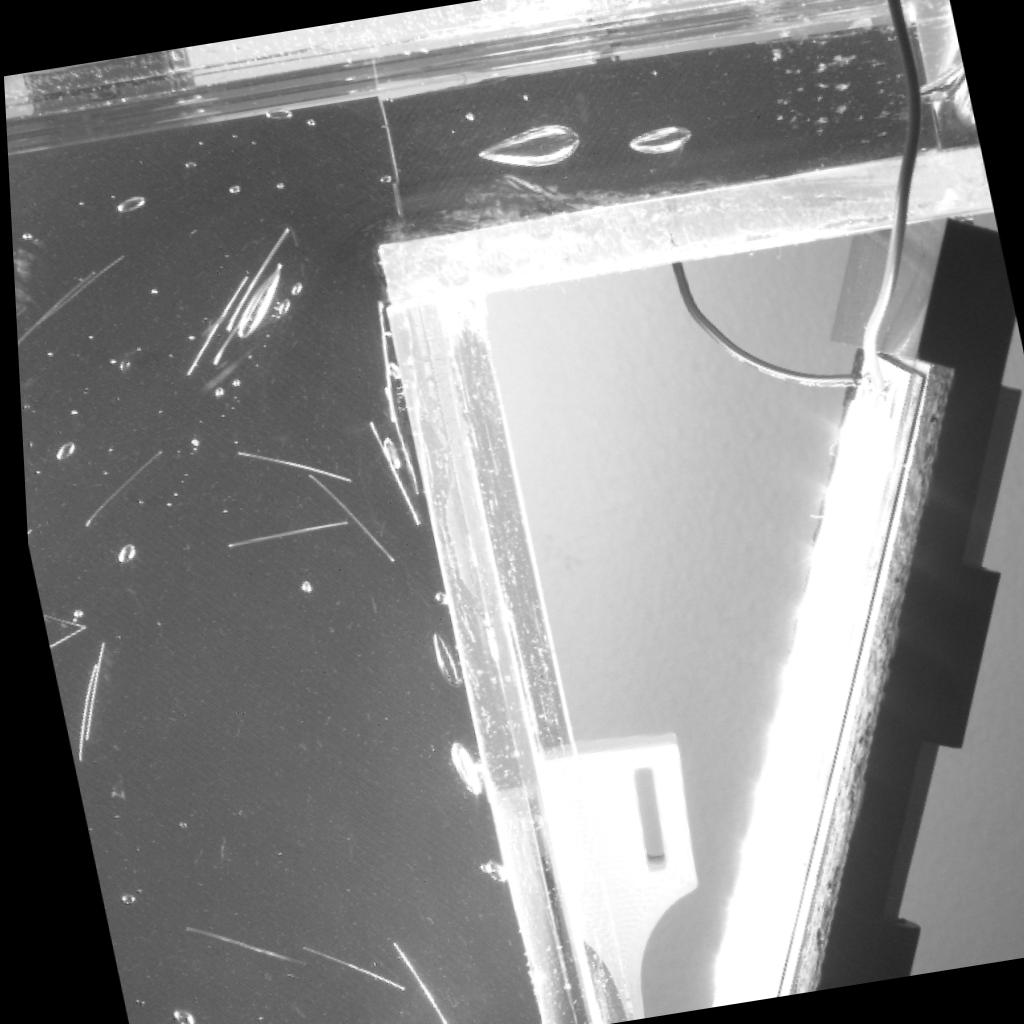Fiber: (203, 260, 285, 370), (298, 469, 390, 564), (216, 224, 287, 332), (72, 447, 161, 531), (176, 272, 246, 377), (35, 249, 125, 324), (358, 415, 417, 528), (14, 269, 95, 350), (288, 939, 396, 995), (171, 923, 294, 968), (378, 936, 440, 1024), (227, 445, 348, 487), (375, 384, 417, 495), (217, 517, 344, 547), (64, 658, 92, 761), (370, 298, 392, 426), (73, 639, 99, 743), (40, 623, 83, 649), (35, 609, 77, 629), (13, 299, 25, 315)
